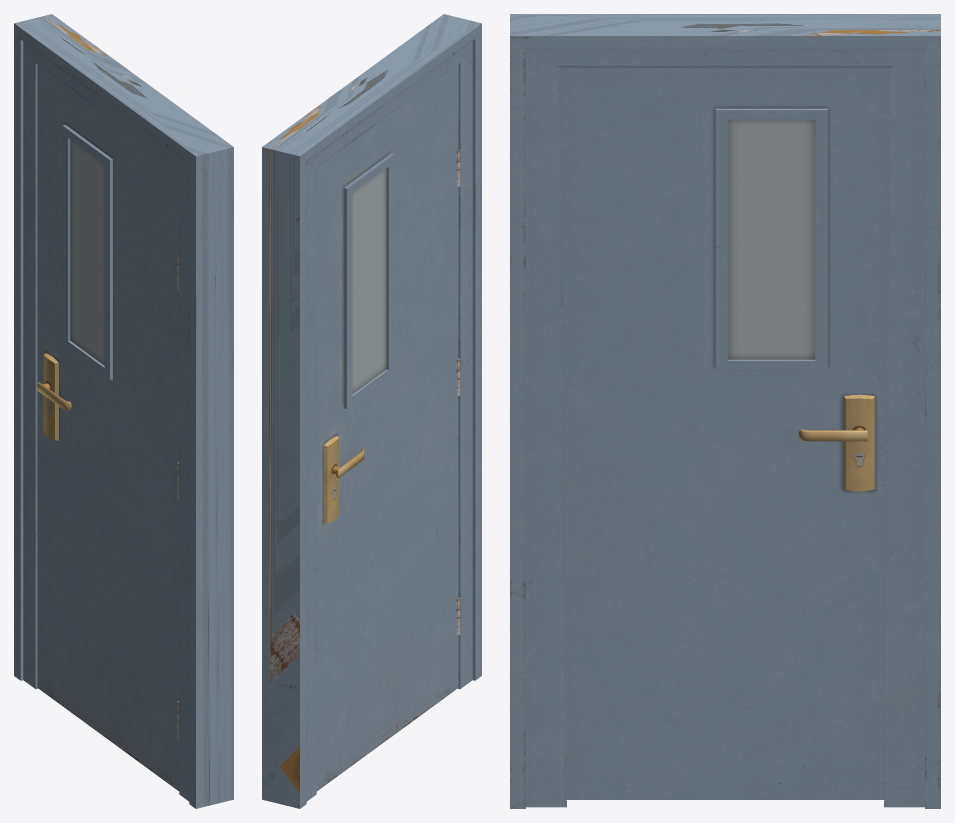
File: Door1.FBX
3 renders of one model, left to right at view 1: azimuth 30°, elevation 25°; view 2: azimuth 150°, elevation 25°; view 3: azimuth 270°, elevation 25°, orthographic. The views are drawn at different scales.
Visible parts, largest first — view 1: 对象002, 对象001; view 2: 对象002, 对象001; view 3: 对象002, 对象001.
Part boxes in pixels (x1=…): 对象002: x1=37, y1=64, x2=179, y2=791; 对象001: x1=14, y1=14, x2=233, y2=808; 对象002: x1=316, y1=64, x2=458, y2=791; 对象001: x1=262, y1=14, x2=481, y2=808; 对象002: x1=561, y1=67, x2=889, y2=799; 对象001: x1=510, y1=14, x2=940, y2=808.
Size of the model in its own units: 0.1666 by 2.26 by 1.14.
